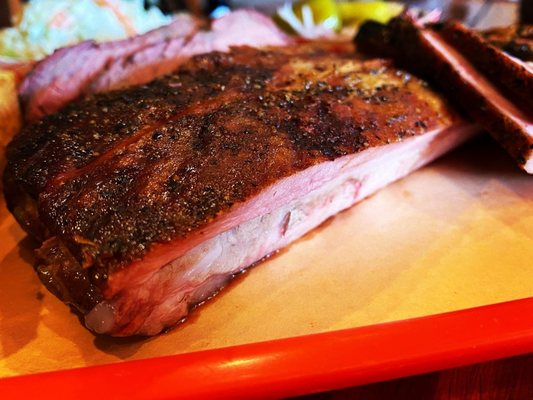sushi: (3, 12, 514, 342)
